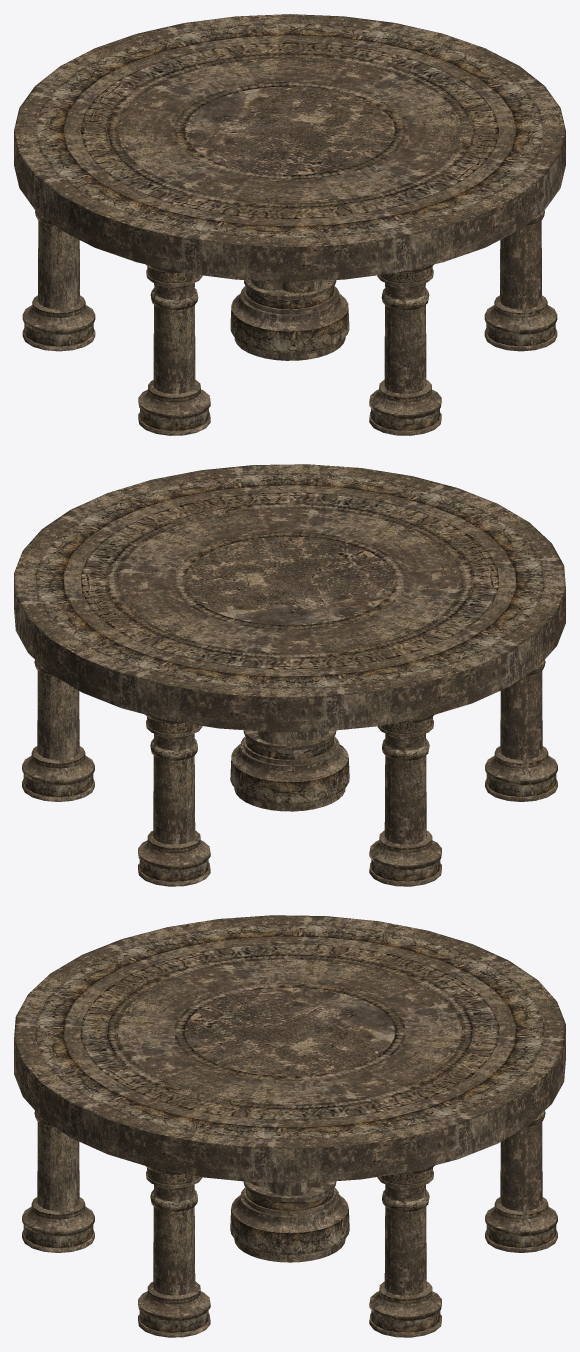
The model's file is materials_5_table_5.fbx.
3 renders of one model, top to bottom at view 1: azimuth 30°, elevation 25°; view 2: azimuth 150°, elevation 25°; view 3: azimuth 270°, elevation 25°, orthographic.
Visible parts, largest first — view 1: materials_5_table_5; view 2: materials_5_table_5; view 3: materials_5_table_5.
Part boxes in pixels (x1,y1,x2,y2): materials_5_table_5: [14, 14, 565, 435]; materials_5_table_5: [14, 464, 565, 886]; materials_5_table_5: [14, 915, 565, 1337].
Bounding box in the file's own units: 175 × 72.33 × 175.
